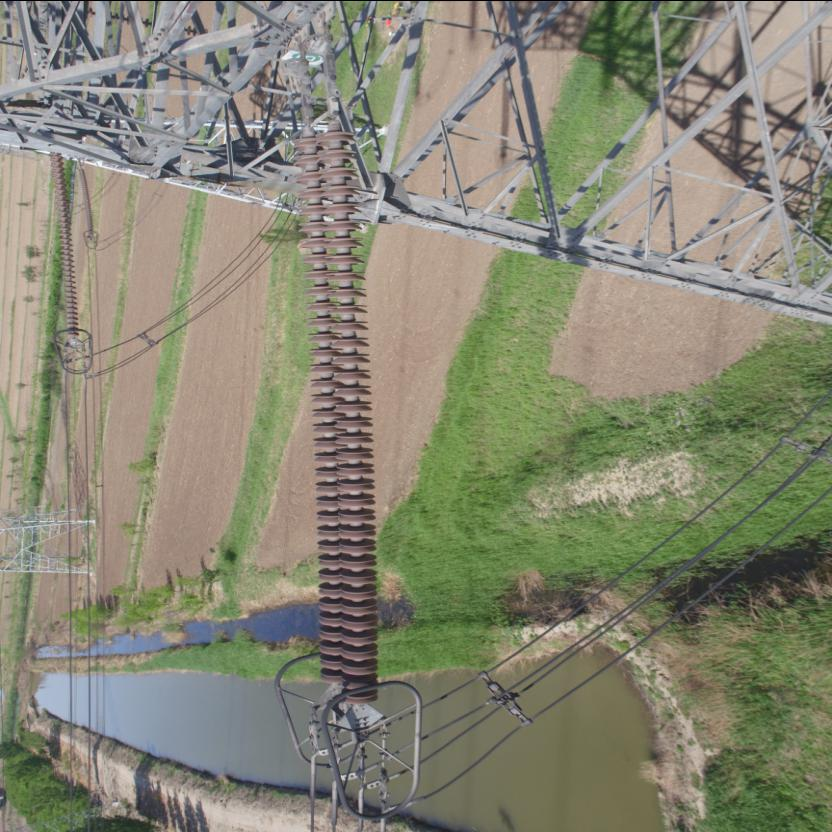insulator: (285, 84, 381, 714), (44, 149, 80, 345)
